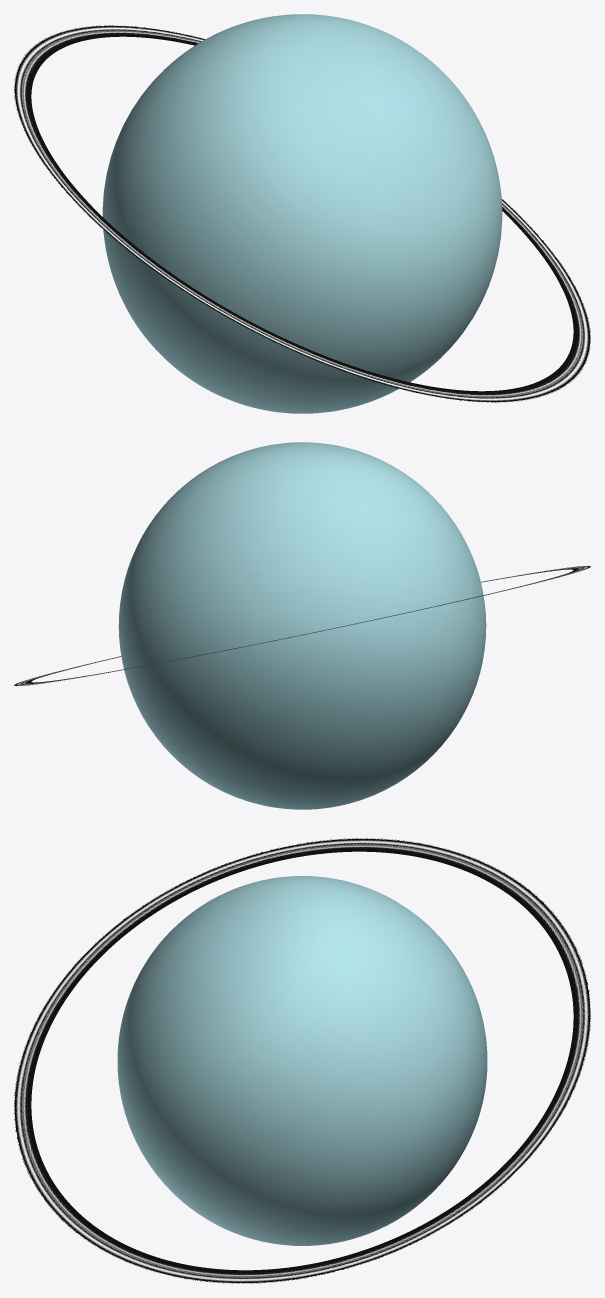
The model's file is sm_uranus.glb.
The picture shows the model from 3 angles, top to bottom: view 1: azimuth 30°, elevation 25°; view 2: azimuth 150°, elevation 25°; view 3: azimuth 270°, elevation 25°; orthographic projection. The views are drawn at different scales.
Parts seen in each view (by area): view 1: Sphere, Circle; view 2: Sphere, Circle; view 3: Sphere, Circle.
Part boxes in pixels (x1=…): Sphere: x1=102, y1=14, x2=502, y2=413; Circle: x1=14, y1=25, x2=590, y2=402; Sphere: x1=118, y1=442, x2=486, y2=809; Circle: x1=14, y1=566, x2=590, y2=685; Sphere: x1=117, y1=876, x2=487, y2=1245; Circle: x1=14, y1=838, x2=590, y2=1283.
Bounding box in the file's own units: 1780 × 1194 × 1862.
Materials: 2 (2 with a texture image).
